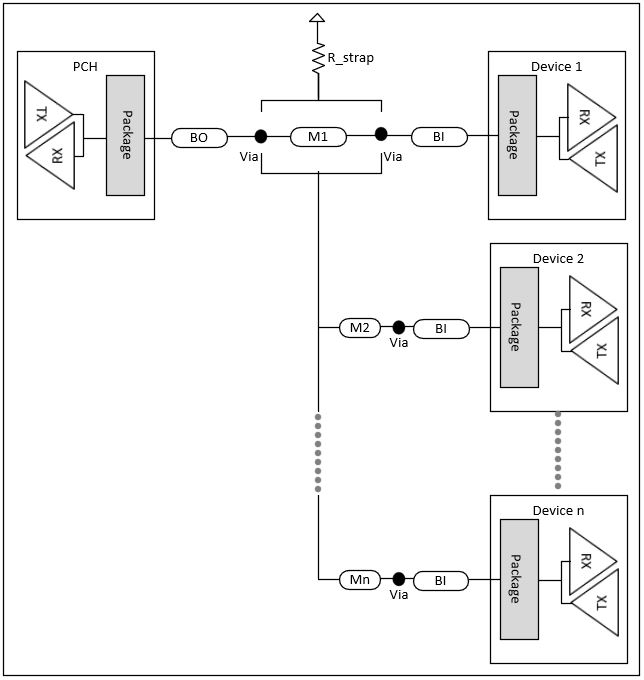circle: (389, 564, 406, 590), (251, 126, 273, 145), (392, 317, 410, 338), (373, 126, 392, 142)
oval: (287, 127, 350, 150), (407, 126, 473, 146), (414, 570, 470, 593), (171, 128, 228, 148), (414, 319, 472, 338), (338, 570, 381, 592), (338, 317, 382, 336)
rectangle: (485, 45, 627, 226), (487, 240, 630, 417), (488, 491, 630, 668), (17, 49, 155, 225), (499, 517, 542, 645), (498, 73, 540, 199), (501, 264, 539, 392), (105, 73, 144, 197)
resistor: (301, 37, 340, 81)
triangle: (568, 121, 621, 199), (572, 315, 623, 394), (568, 269, 621, 345), (564, 527, 620, 598), (22, 80, 77, 152), (25, 122, 77, 198), (568, 567, 620, 643), (564, 83, 619, 152)
